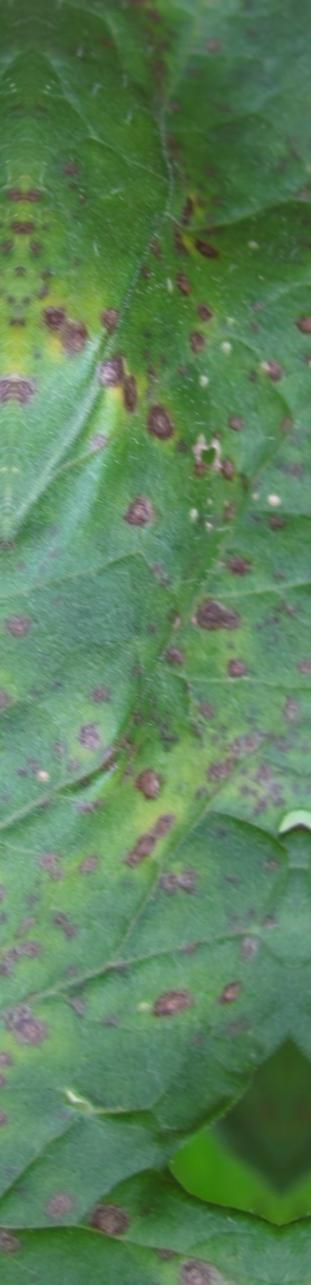Tomato Septoria leaf spot: (0, 0, 311, 1275)
